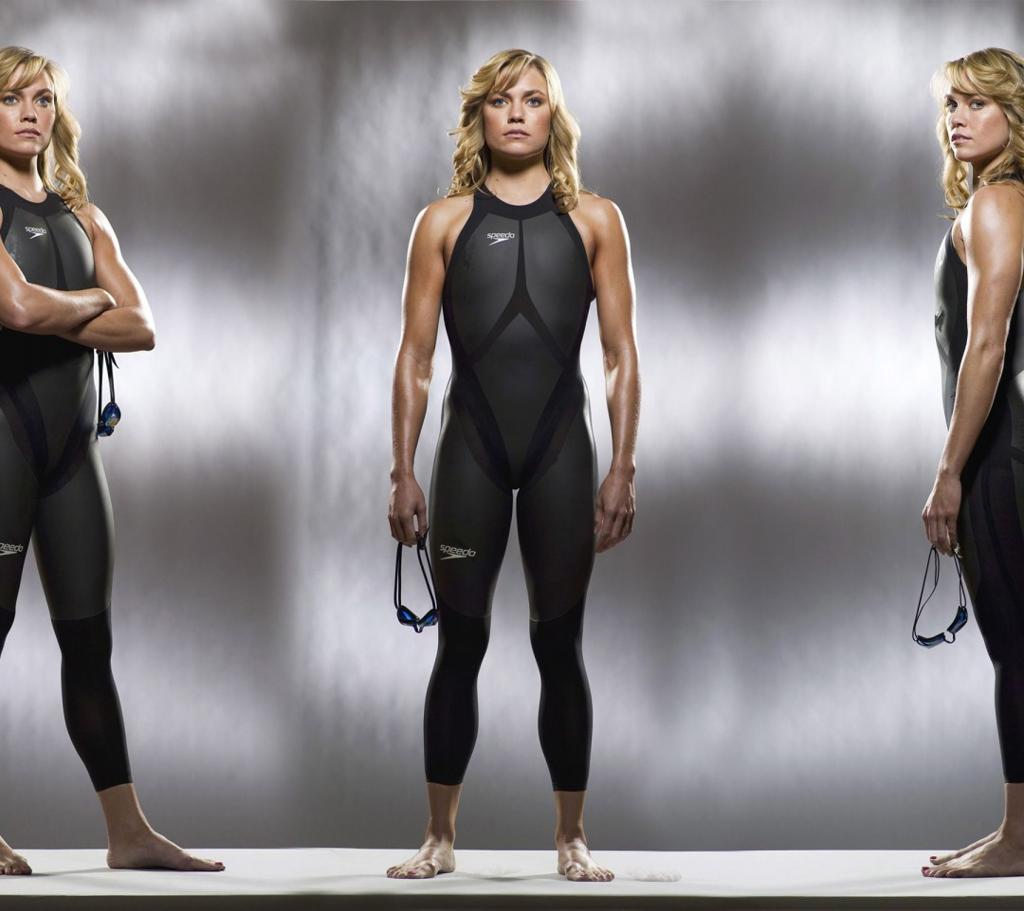face: (490, 50, 550, 152), (940, 78, 1008, 162), (6, 70, 60, 154)
